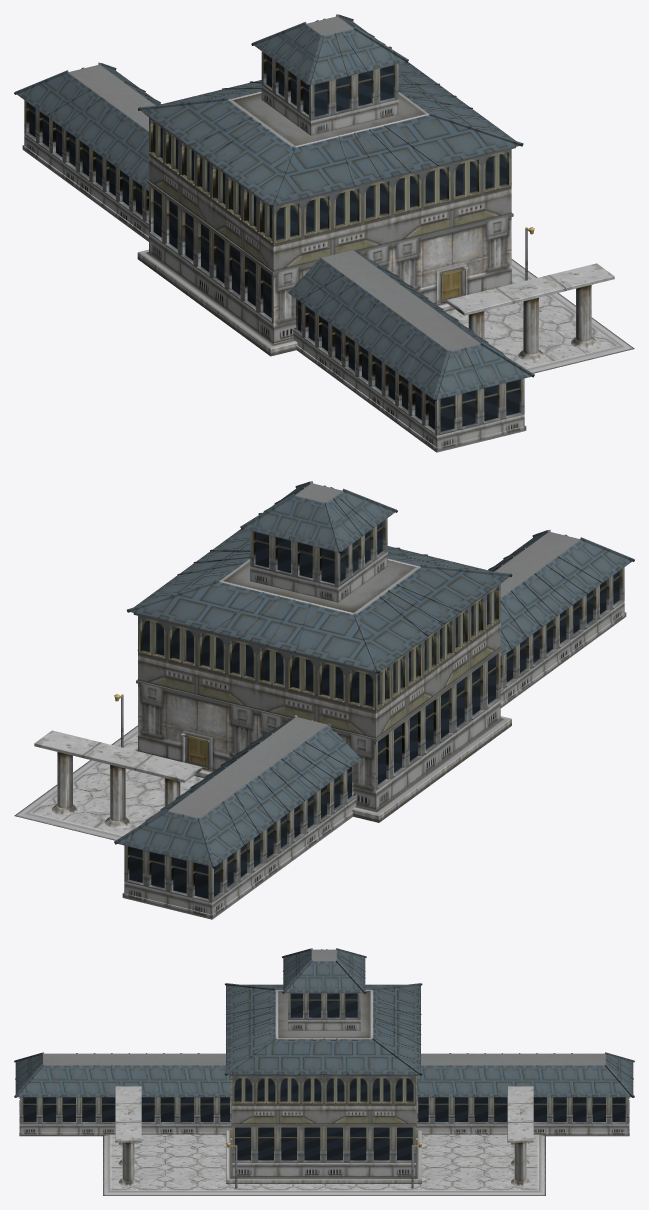
File: s_gov1_cad.glb
3 views of the same model, one above another, from view 1: azimuth 30°, elevation 25°; view 2: azimuth 150°, elevation 25°; view 3: azimuth 270°, elevation 25° (orthographic). The views are drawn at different scales.
Visible parts, largest first — view 1: S_Gov1; view 2: S_Gov1; view 3: S_Gov1.
Boxes of the visible parts, x1,y1,x2,y2 form: S_Gov1: (14,14,634,452); S_Gov1: (14,481,634,919); S_Gov1: (14,948,634,1195).
Bounding box in the file's own units: 23.14 × 19.79 × 59.9.
1 material, 1 textured.
